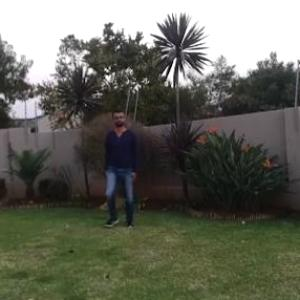follow: (104, 102, 140, 228)
